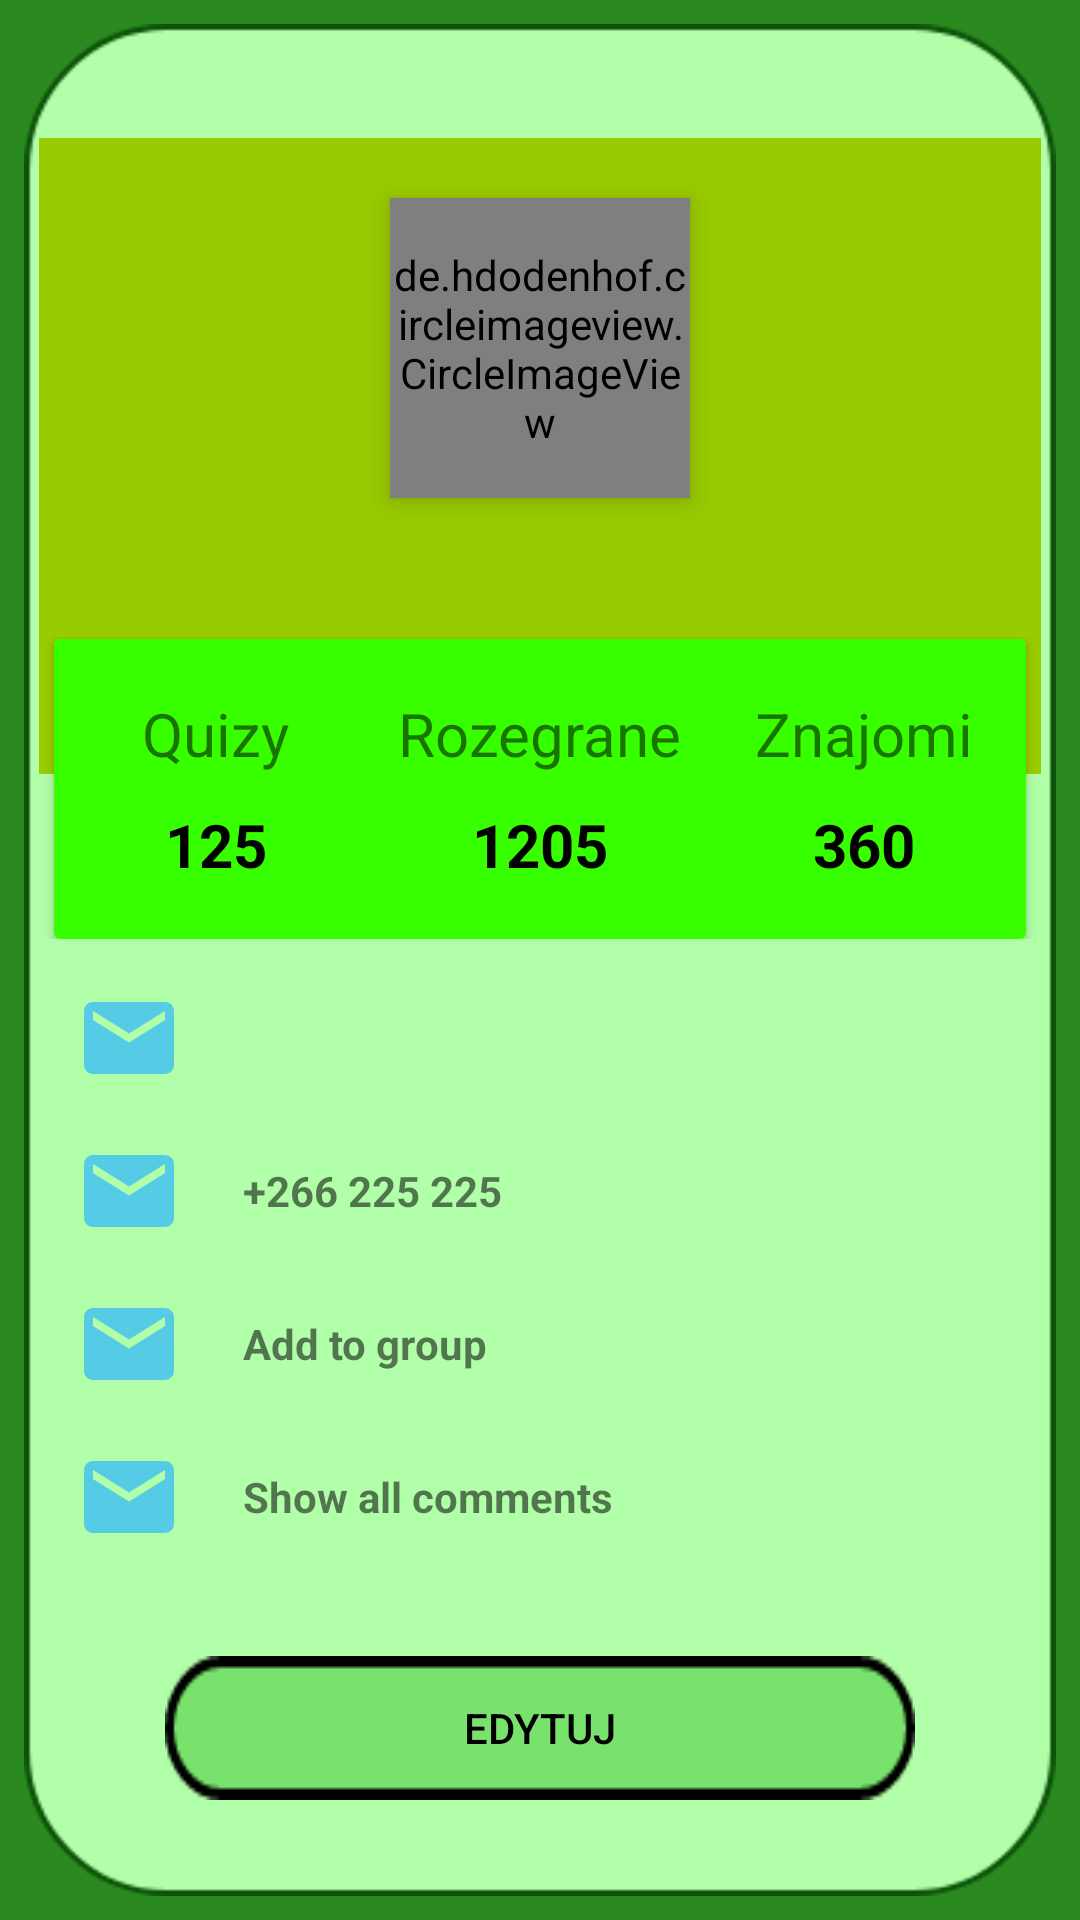

Icon click points for this 1080w x 1920h phone screenshot, format (x=x, y=y):
mail: (x=129, y=1038), (x=129, y=1191), (x=129, y=1344), (x=129, y=1497)
